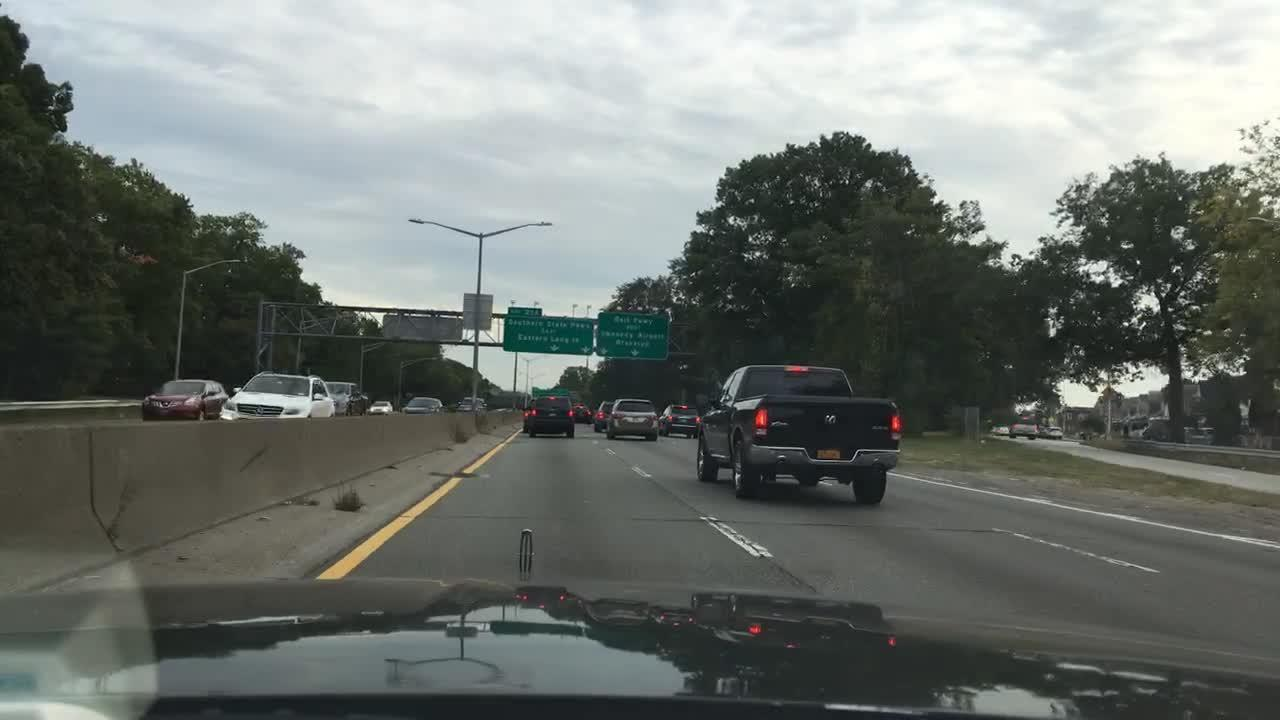ram: (821, 410, 840, 428)
